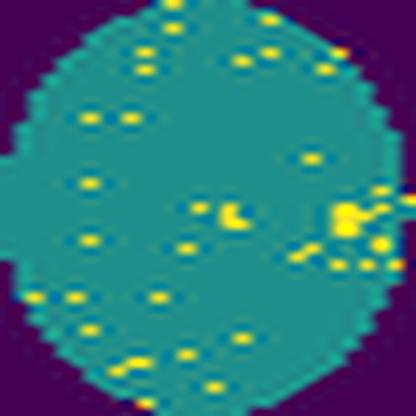Loc: (330, 197, 393, 240)
